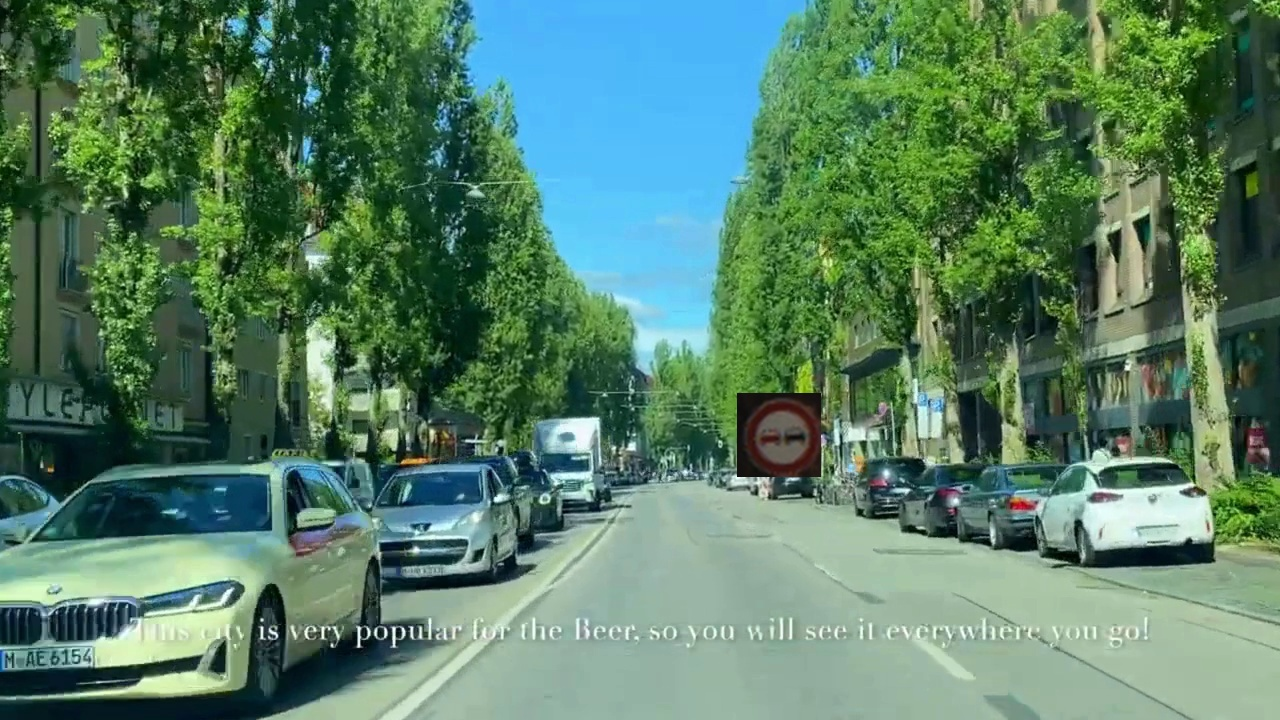No passing: (737, 393, 821, 477)
